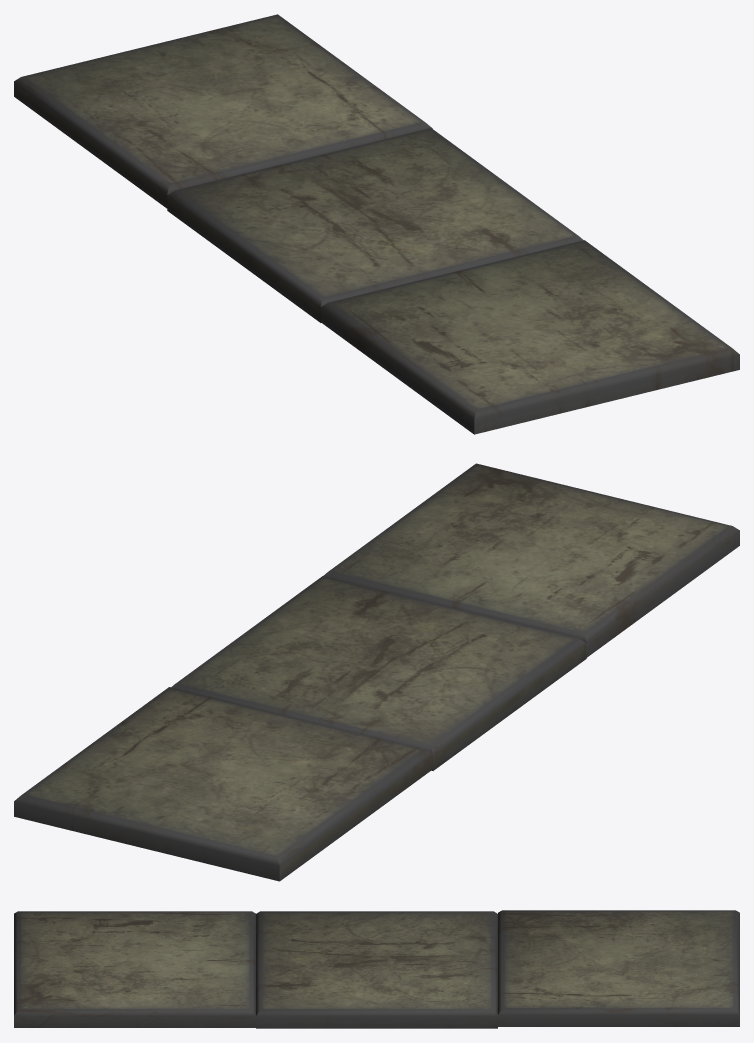
File: SM_StoneFloor9x3.fbx
The picture shows the model from 3 angles, top to bottom: view 1: azimuth 30°, elevation 25°; view 2: azimuth 150°, elevation 25°; view 3: azimuth 270°, elevation 25°; orthographic projection. The views are drawn at different scales.
Visible parts, largest first — view 1: SM_StoneFloor9x3; view 2: SM_StoneFloor9x3; view 3: SM_StoneFloor9x3.
Boxes of the visible parts, <box> form: SM_StoneFloor9x3: <box>14,14,739,434</box>; SM_StoneFloor9x3: <box>14,463,739,881</box>; SM_StoneFloor9x3: <box>14,910,739,1028</box>.
Size of the model in its own units: 300 by 24.24 by 900.
